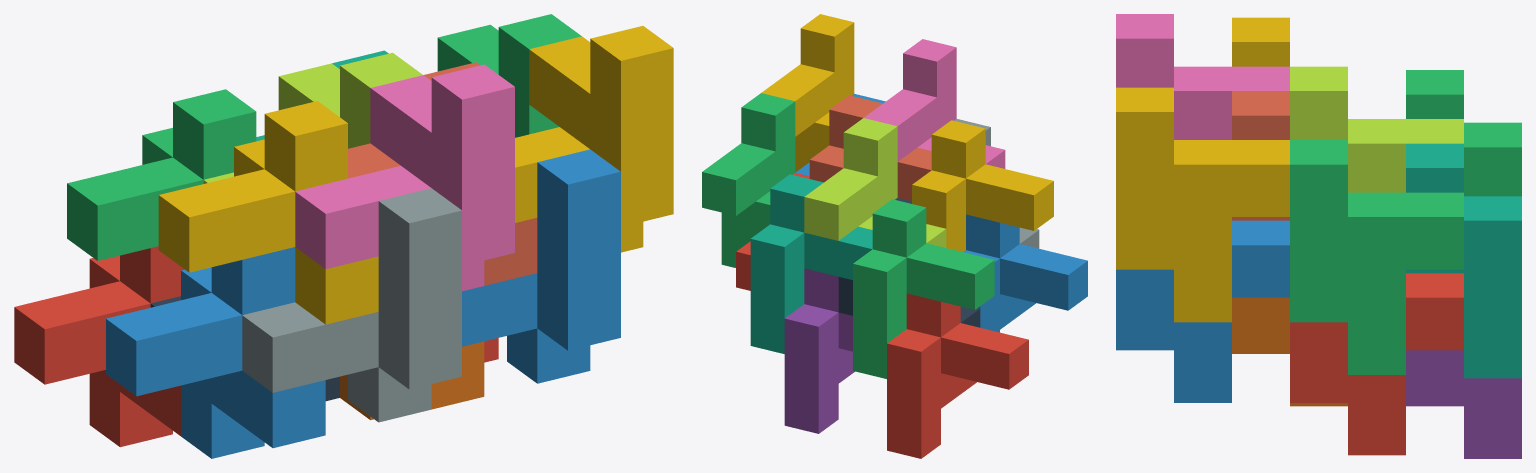
Rendered from tiling.obj.
3 renders of one model, left to right at view 1: azimuth 30°, elevation 25°; view 2: azimuth 150°, elevation 25°; view 3: azimuth 270°, elevation 25°, orthographic. The views are drawn at different scales.
Visible parts, largest first — view 1: copy_2_domain_2, copy_2_domain_4, copy_1_domain_2, copy_2_domain_6, copy_1_domain_4, copy_2_domain_8, copy_1_domain_1, copy_1_domain_3, copy_2_domain_7, copy_2_domain_3, copy_1_domain_8, copy_1_domain_6; view 2: copy_1_domain_1, copy_1_domain_3, copy_1_domain_7, copy_1_domain_4, copy_2_domain_7, copy_1_domain_5, copy_1_domain_2, copy_2_domain_3, copy_2_domain_8, copy_2_domain_4, copy_1_domain_8, copy_2_domain_1 (+2 smaller); view 3: copy_2_domain_7, copy_2_domain_8, copy_2_domain_6, copy_2_domain_5, copy_1_domain_7, copy_2_domain_3, copy_2_domain_4, copy_1_domain_5, copy_1_domain_3, copy_1_domain_6, copy_1_domain_8, copy_1_domain_4.
Boxes of the visible parts, x1=… form: copy_2_domain_2: x1=242, y1=188, x2=461, y2=422; copy_2_domain_4: x1=295, y1=64, x2=514, y2=291; copy_1_domain_2: x1=106, y1=247, x2=325, y2=458; copy_2_domain_6: x1=462, y1=149, x2=620, y2=383; copy_1_domain_4: x1=158, y1=101, x2=378, y2=324; copy_2_domain_8: x1=515, y1=26, x2=673, y2=252; copy_1_domain_1: x1=14, y1=246, x2=184, y2=447; copy_1_domain_3: x1=67, y1=89, x2=256, y2=260; copy_2_domain_7: x1=437, y1=14, x2=581, y2=137; copy_2_domain_3: x1=203, y1=52, x2=422, y2=183; copy_1_domain_8: x1=348, y1=62, x2=537, y2=285; copy_1_domain_6: x1=340, y1=341, x2=484, y2=420; copy_1_domain_1: x1=887, y1=293, x2=1028, y2=458; copy_1_domain_3: x1=853, y1=199, x2=994, y2=378; copy_1_domain_7: x1=750, y1=174, x2=872, y2=353; copy_1_domain_4: x1=912, y1=120, x2=1053, y2=251; copy_2_domain_7: x1=702, y1=93, x2=795, y2=267; copy_1_domain_5: x1=784, y1=268, x2=854, y2=433; copy_1_domain_2: x1=963, y1=214, x2=1087, y2=332; copy_2_domain_3: x1=804, y1=118, x2=946, y2=247; copy_2_domain_8: x1=761, y1=14, x2=854, y2=172; copy_2_domain_4: x1=864, y1=39, x2=1005, y2=168; copy_1_domain_8: x1=809, y1=95, x2=931, y2=200; copy_2_domain_1: x1=838, y1=198, x2=980, y2=327; copy_2_domain_7: x1=1290, y1=140, x2=1463, y2=374; copy_2_domain_8: x1=1116, y1=87, x2=1289, y2=322; copy_2_domain_6: x1=1116, y1=220, x2=1289, y2=402; copy_2_domain_5: x1=1290, y1=273, x2=1463, y2=455; copy_1_domain_7: x1=1406, y1=143, x2=1521, y2=378; copy_2_domain_3: x1=1290, y1=66, x2=1463, y2=192; copy_2_domain_4: x1=1116, y1=14, x2=1289, y2=139; copy_1_domain_5: x1=1406, y1=350, x2=1521, y2=458; copy_1_domain_3: x1=1406, y1=70, x2=1521, y2=196; copy_1_domain_6: x1=1232, y1=297, x2=1347, y2=406; copy_1_domain_8: x1=1232, y1=91, x2=1289, y2=220; copy_1_domain_4: x1=1232, y1=17, x2=1289, y2=66.
Size of the model in its own units: 9 by 8 by 7.
